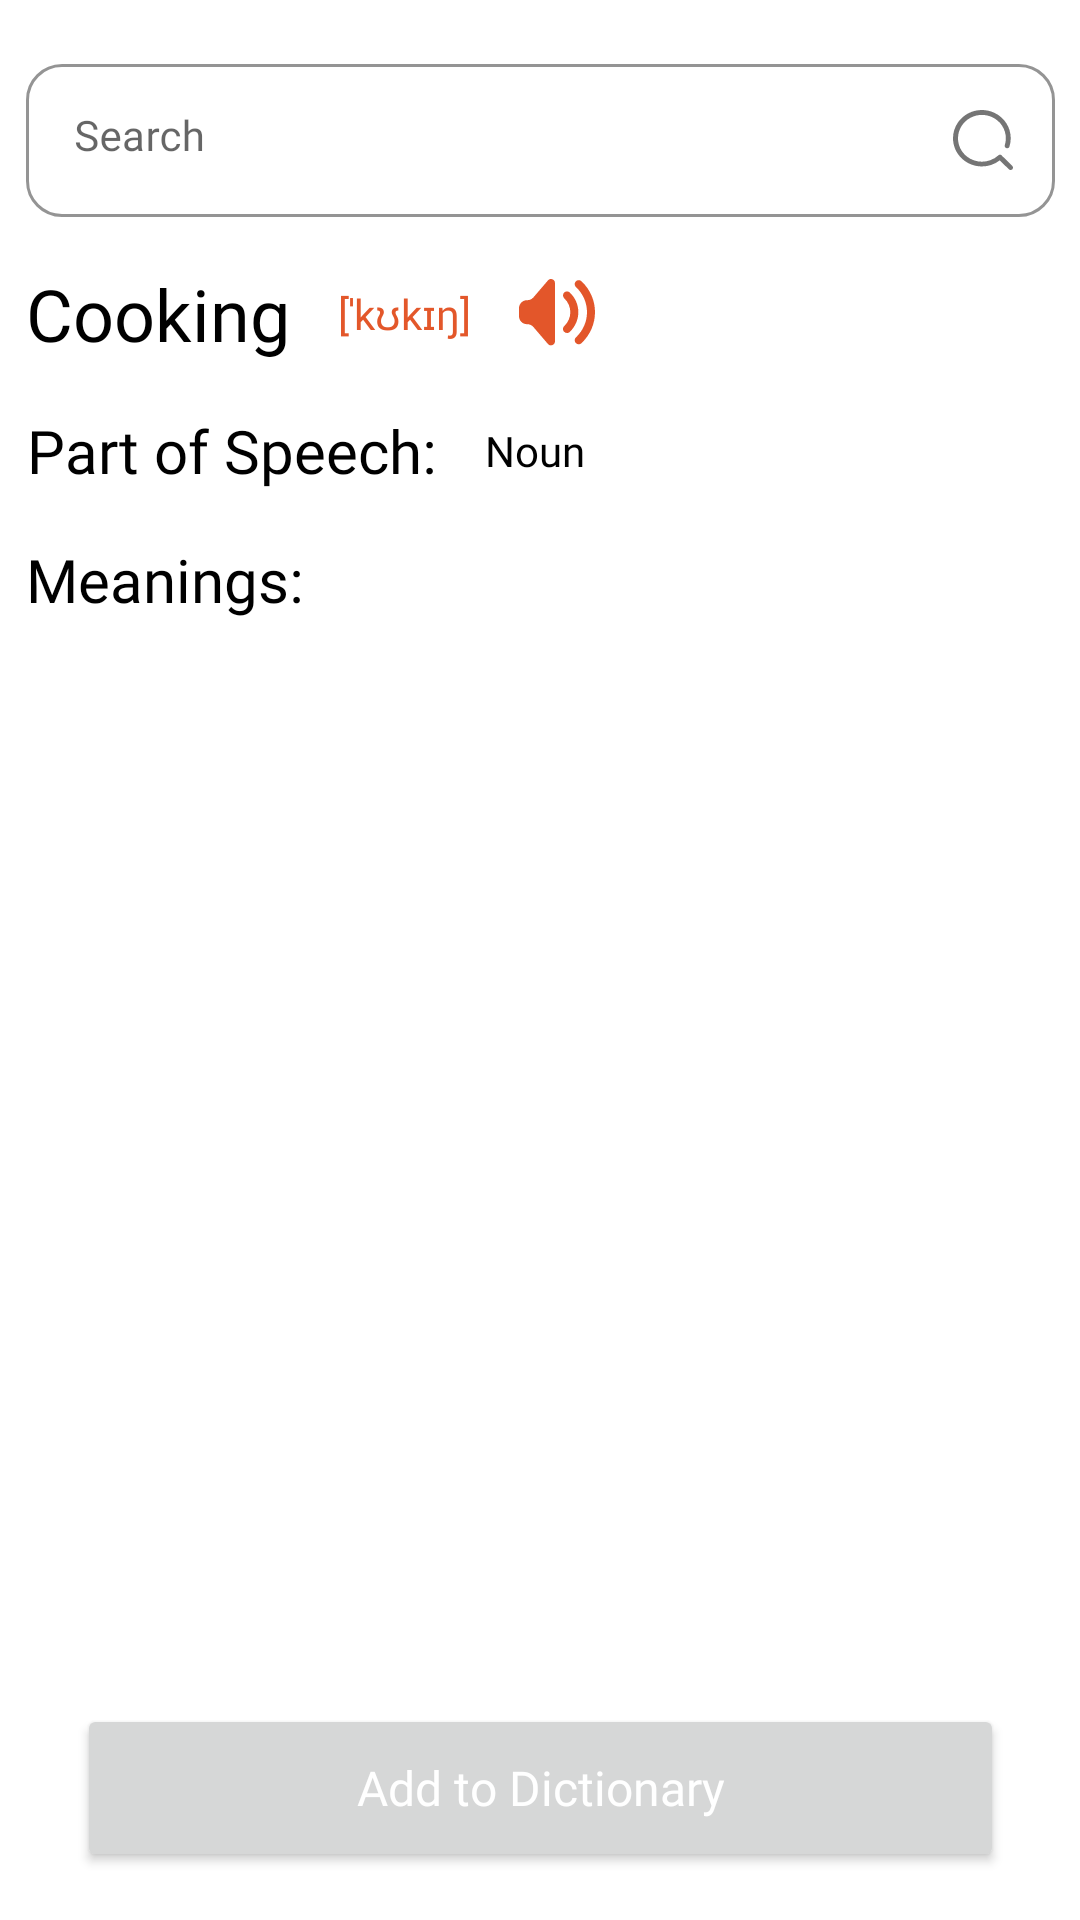

Screen size 1080 × 1920. Icon name, then its box in pixels as (x1, y1, x2, y2):
dictionary listen: (519, 279, 595, 346)
